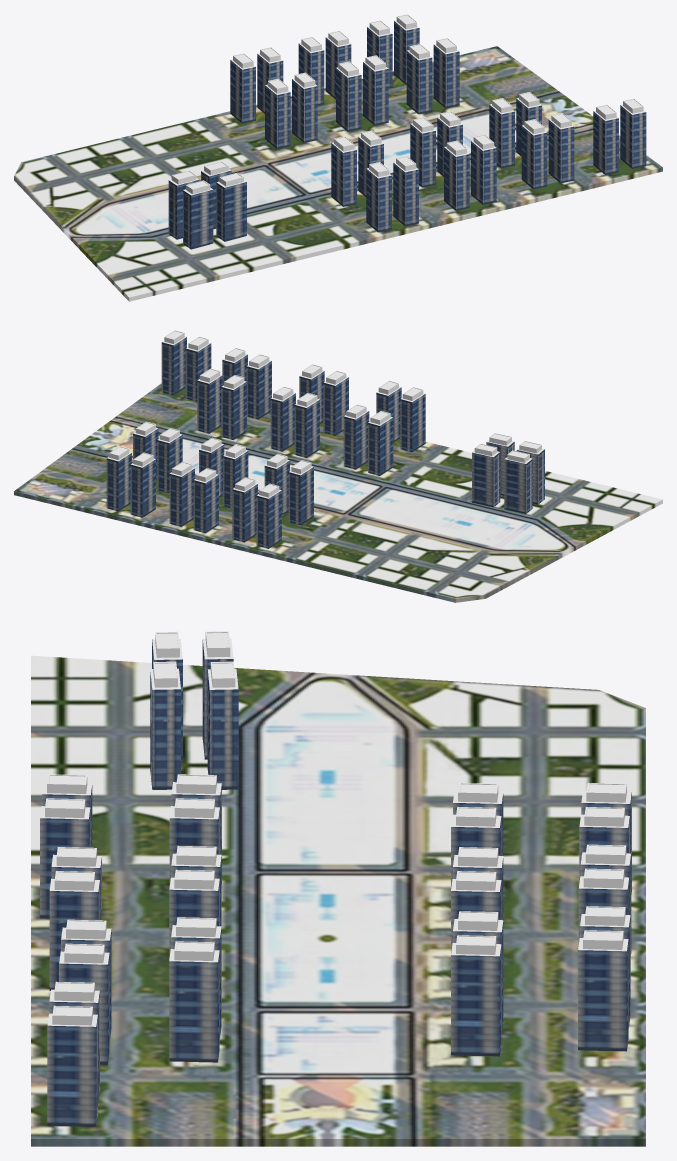
File: gov.glb
3 renders of one model, top to bottom at view 1: azimuth 30°, elevation 25°; view 2: azimuth 150°, elevation 25°; view 3: azimuth 270°, elevation 25°, orthographic. The views are drawn at different scales.
Size of the model in its own units: 5.15 by 0.5918 by 2.77.
3 materials, 2 textured.
